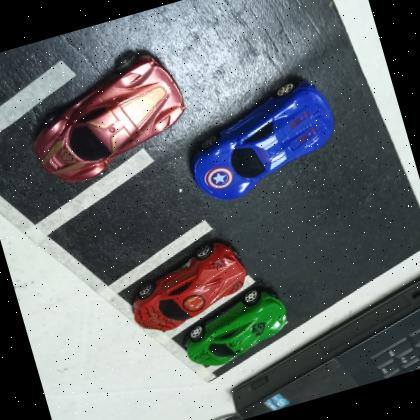Car: (33, 52, 185, 181), (189, 75, 334, 199), (131, 240, 246, 334), (181, 286, 287, 368)
